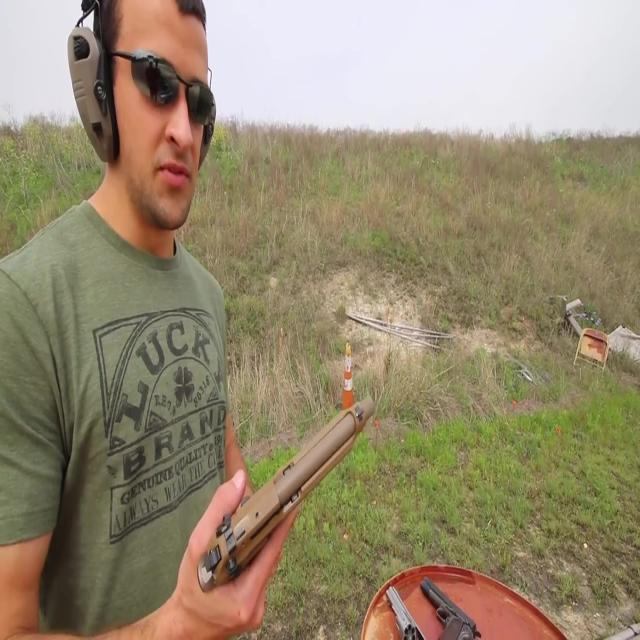Weapon: (173, 340, 562, 640)
